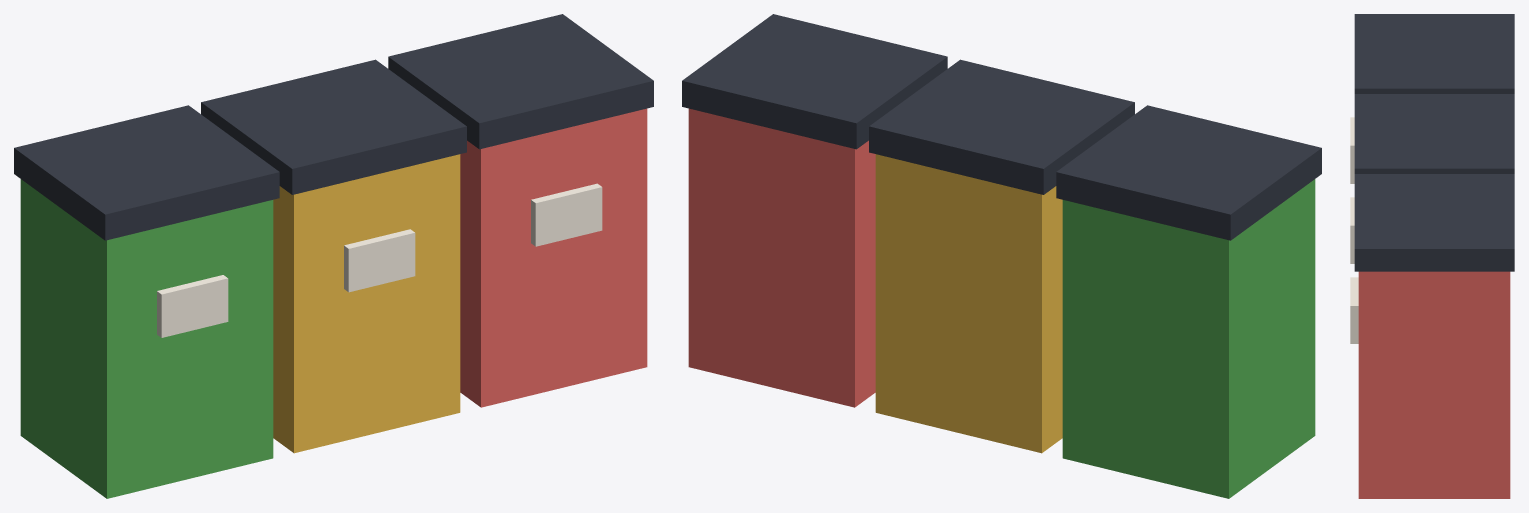
File: prop_trash_bins.glb
3 views of the same model, side by side, from view 1: azimuth 30°, elevation 25°; view 2: azimuth 150°, elevation 25°; view 3: azimuth 270°, elevation 25° (orthographic). The views are drawn at different scales.
Visible parts, largest first — view 1: prop_trash_bins; view 2: prop_trash_bins; view 3: prop_trash_bins.
Boxes of the visible parts, x1,y1,x2,y2 form: prop_trash_bins: [14, 14, 653, 498]; prop_trash_bins: [682, 14, 1321, 498]; prop_trash_bins: [1350, 14, 1514, 498].
Size of the model in its own units: 0.132 by 0.066 by 0.039.
